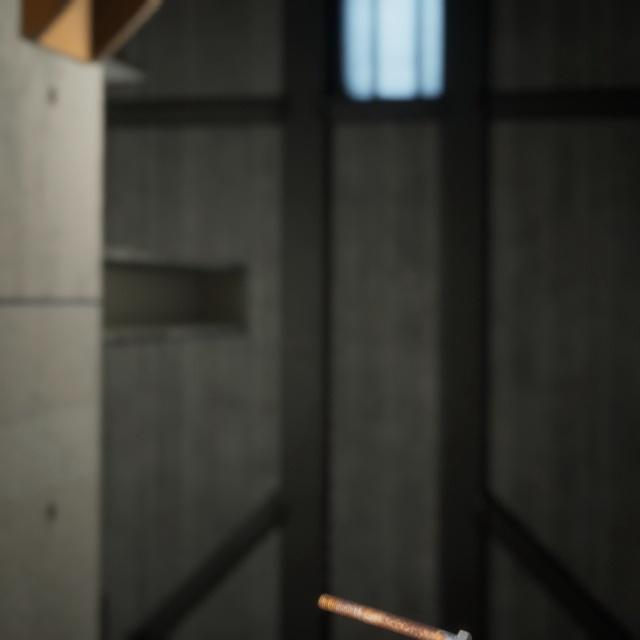bolt: (313, 567, 476, 640)
